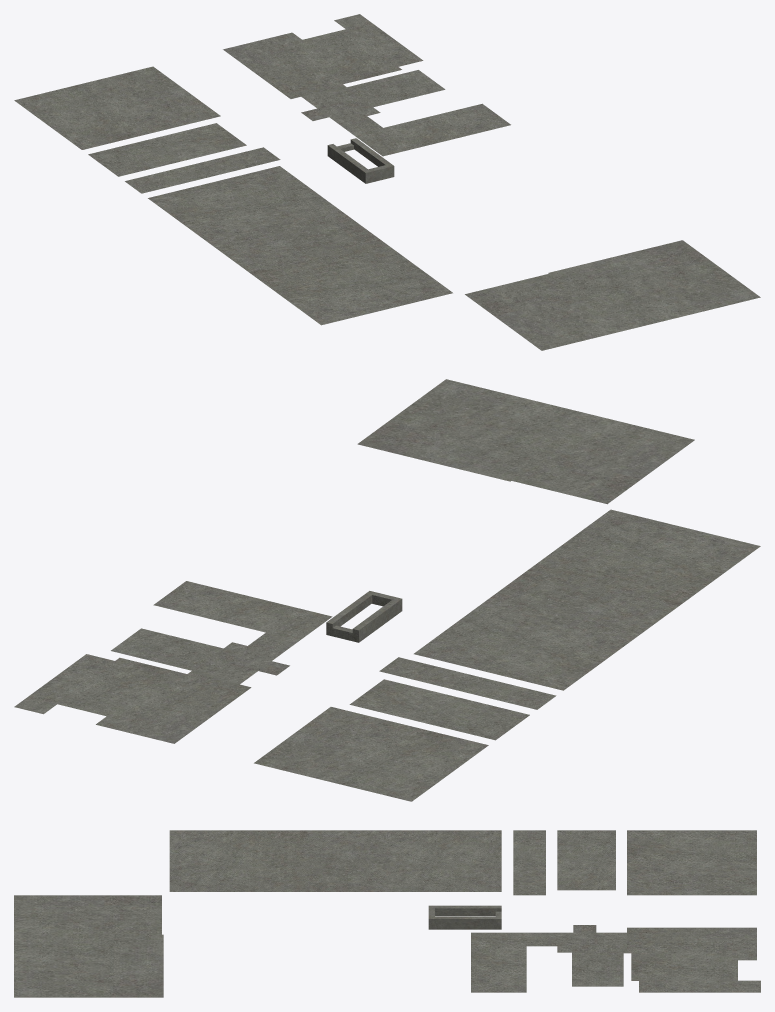
The model's file is Slate_Flooring.dae.
3 views of the same model, one above another, from view 1: azimuth 30°, elevation 25°; view 2: azimuth 150°, elevation 25°; view 3: azimuth 270°, elevation 25° (orthographic). The views are drawn at different scales.
Parts seen in each view (by area): view 1: Slate_Flooring; view 2: Slate_Flooring; view 3: Slate_Flooring.
Part boxes in pixels (x1,y1,x2,y2): Slate_Flooring: [14, 14, 760, 350]; Slate_Flooring: [14, 379, 760, 801]; Slate_Flooring: [14, 830, 760, 997].
Bounding box in the file's own units: 20.6 × 38.9 × 0.6.
Materials: 1 (1 with a texture image).
